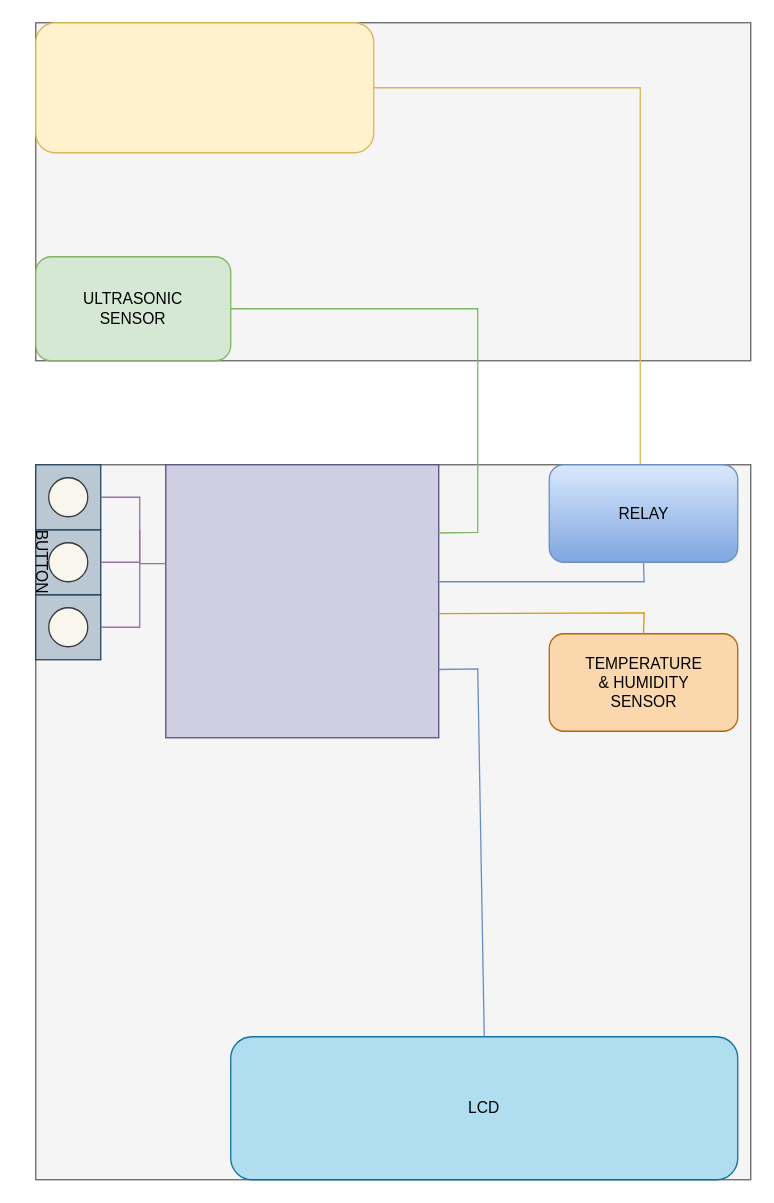
The diagram is 774 pixels wide and 1203 high, and some of its shapes have lost their labels. Here are the shapes that lost their labels. From the top down, the centre of each, then its label:
(204,87): PUMP
(301,600): ESP8266
